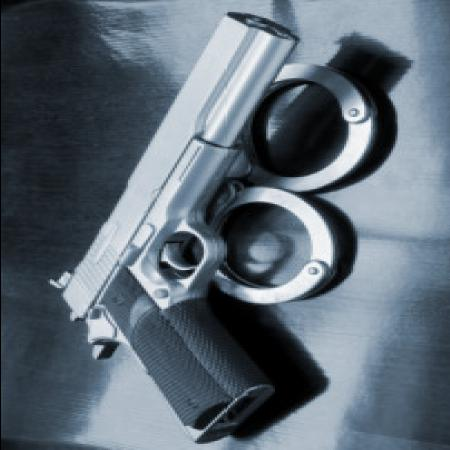Pistol: (51, 21, 325, 427)
